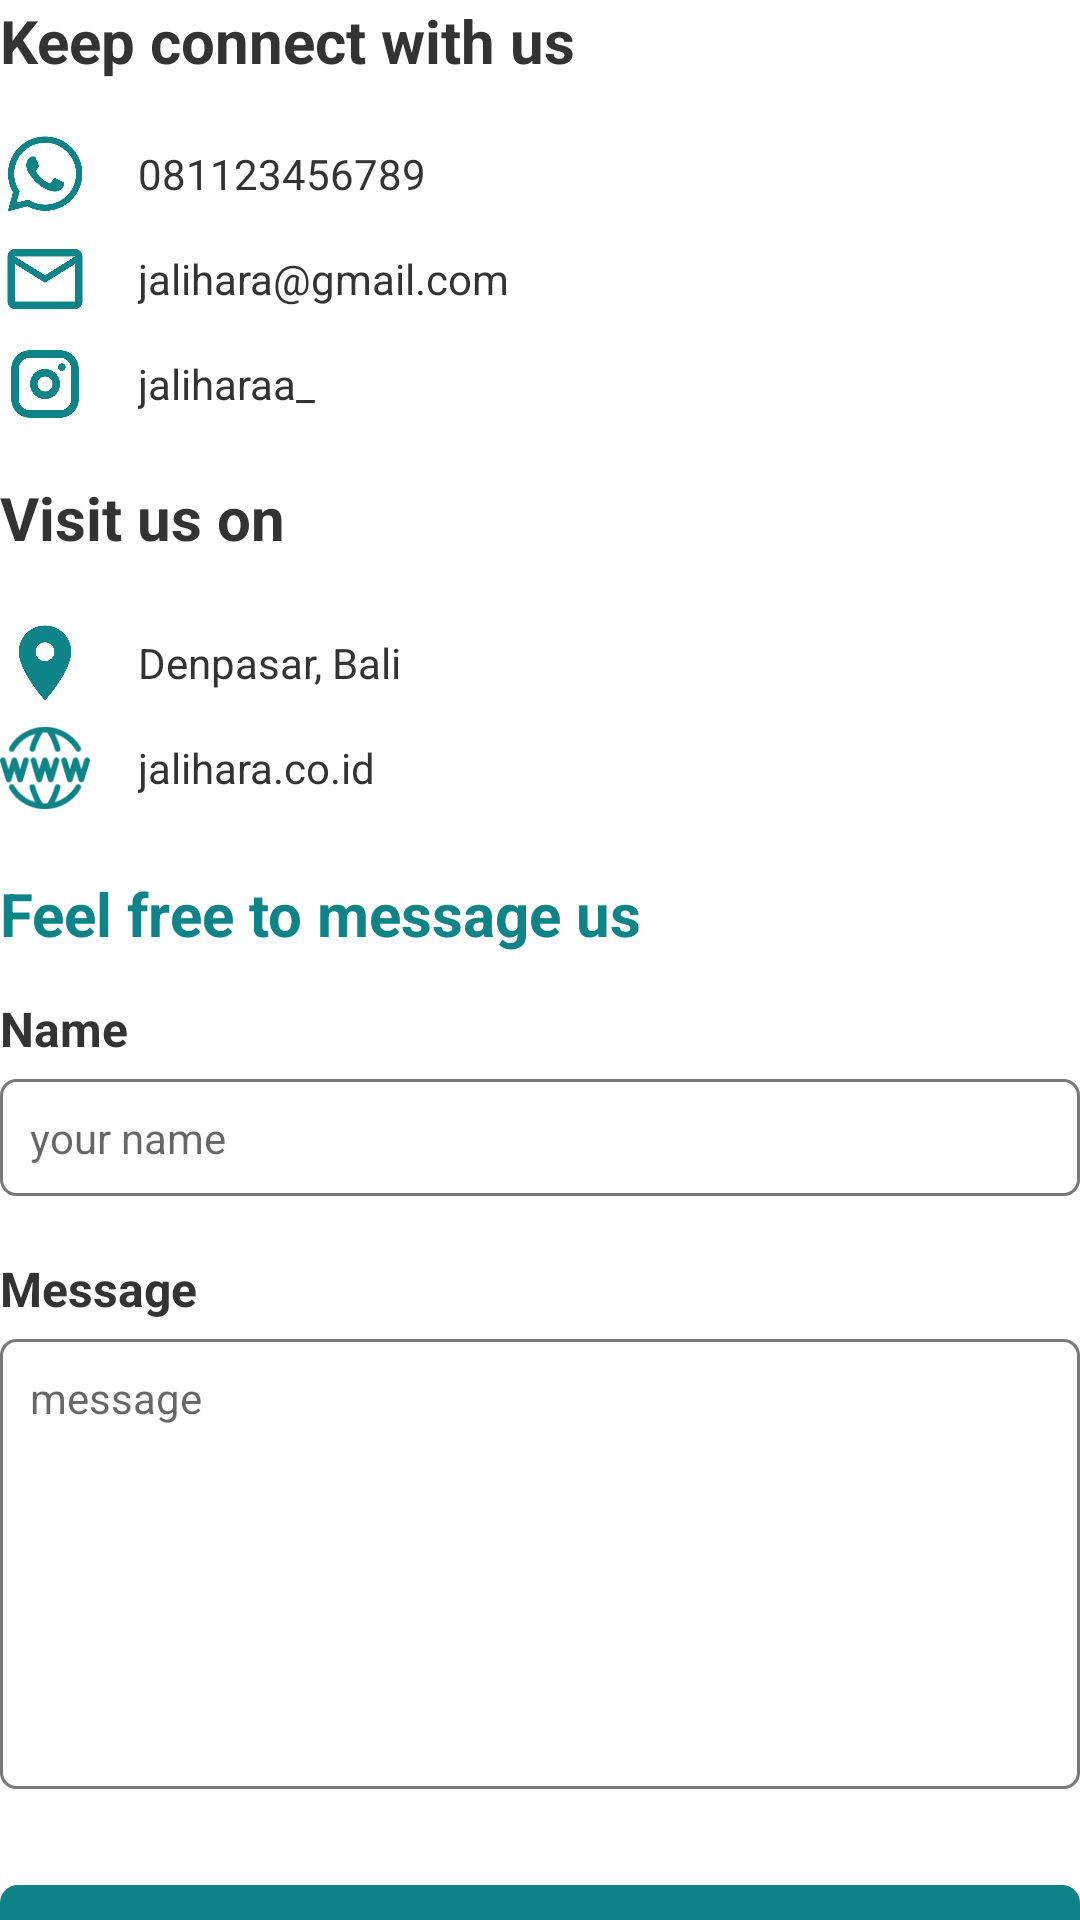

Point at icon controls on the screen. Image size 1080px×1920px, points as (x,y).
email: (45,279)
location: (45,662)
